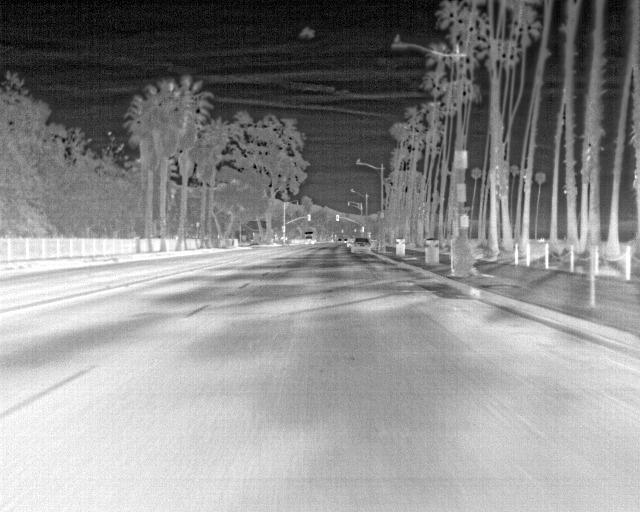car: (351, 237, 374, 257), (302, 229, 316, 244), (341, 236, 355, 249)
